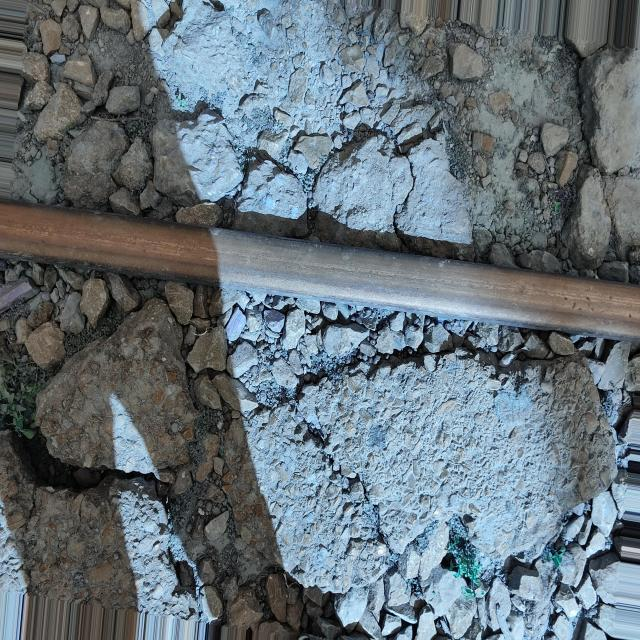non-defective: (1, 196, 638, 346)
